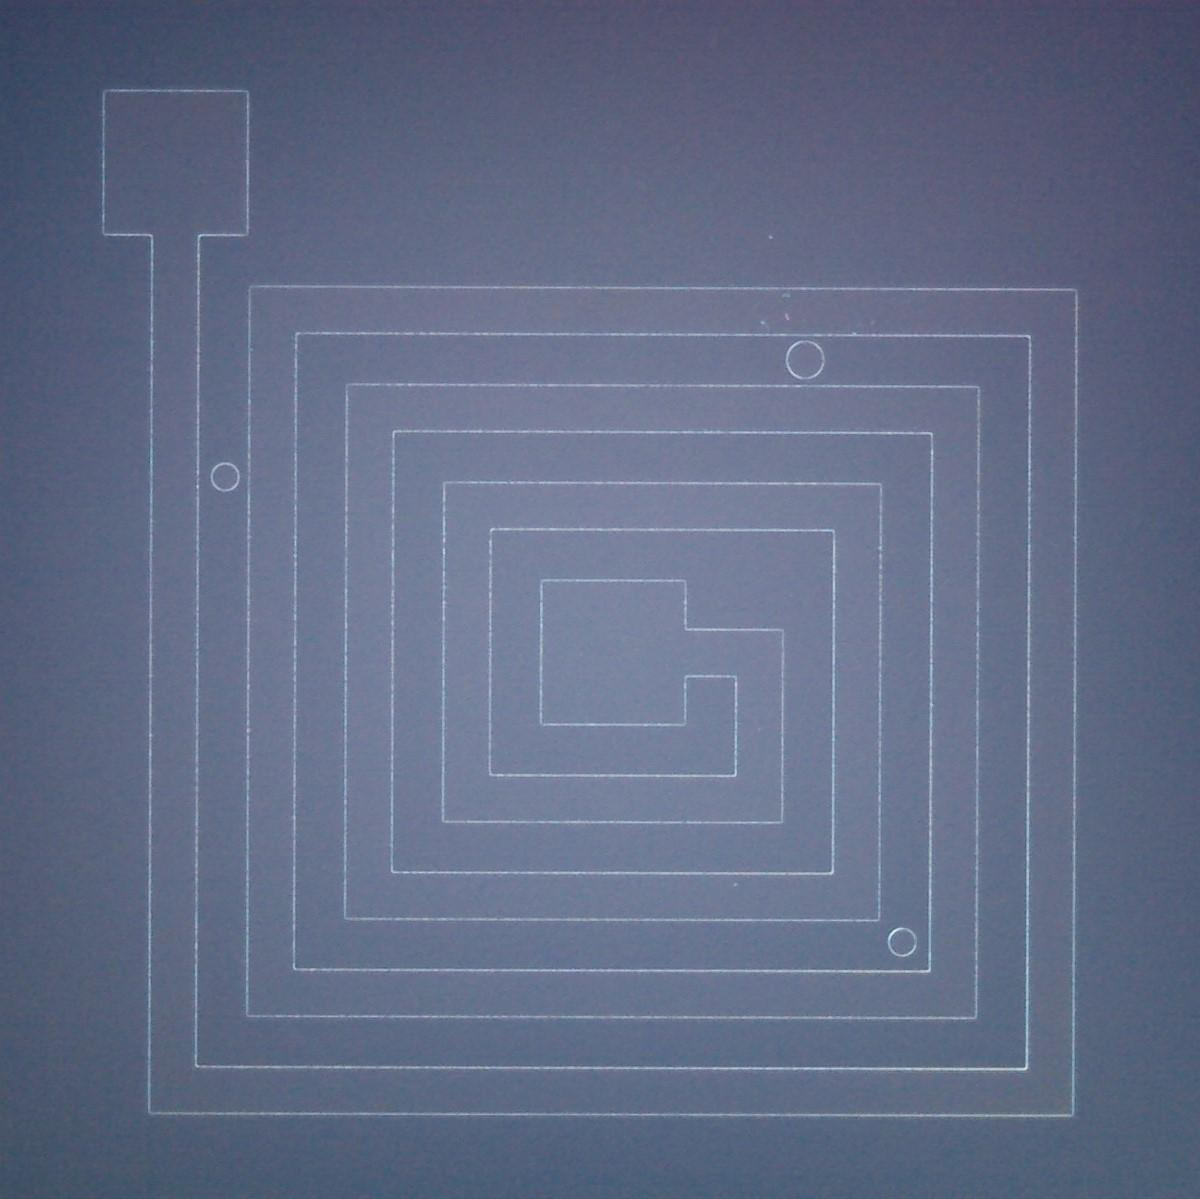circle: (786, 339, 826, 380), (887, 927, 918, 959), (211, 461, 240, 493)
s_point: (849, 327, 860, 339), (781, 291, 793, 301), (782, 312, 792, 322), (766, 234, 776, 243), (758, 318, 767, 327), (867, 318, 877, 327), (731, 881, 740, 889)
